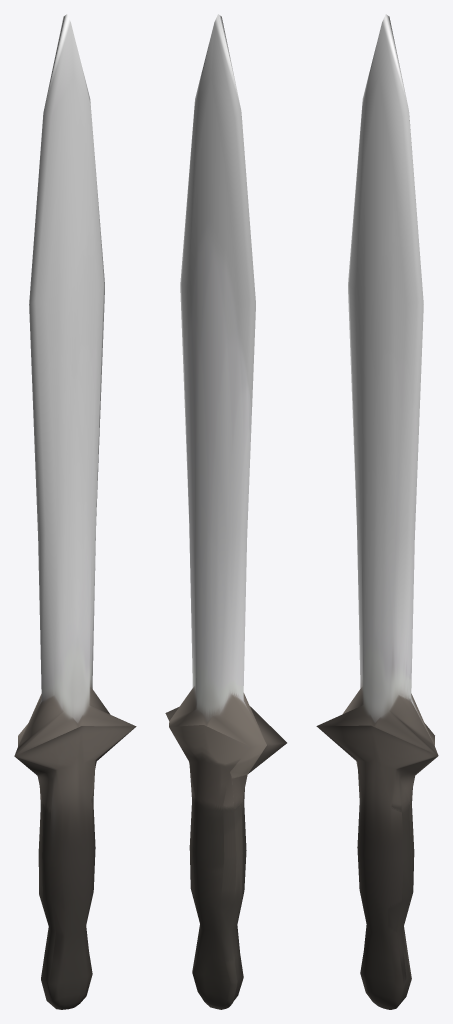
File: Drow Sword.fbx
3 renders of one model, left to right at view 1: azimuth 30°, elevation 25°; view 2: azimuth 150°, elevation 25°; view 3: azimuth 330°, elevation 25°, orthographic.
Visible parts, largest first — view 1: Cube; view 2: Cube; view 3: Cube.
Part boxes in pixels (<box>): Cube: <box>14,14,136,1009</box>; Cube: <box>165,14,286,1009</box>; Cube: <box>316,14,438,1009</box>.
Bounding box in the file's own units: 0.3078 × 2.39 × 0.1268.
1 material, 1 textured.
